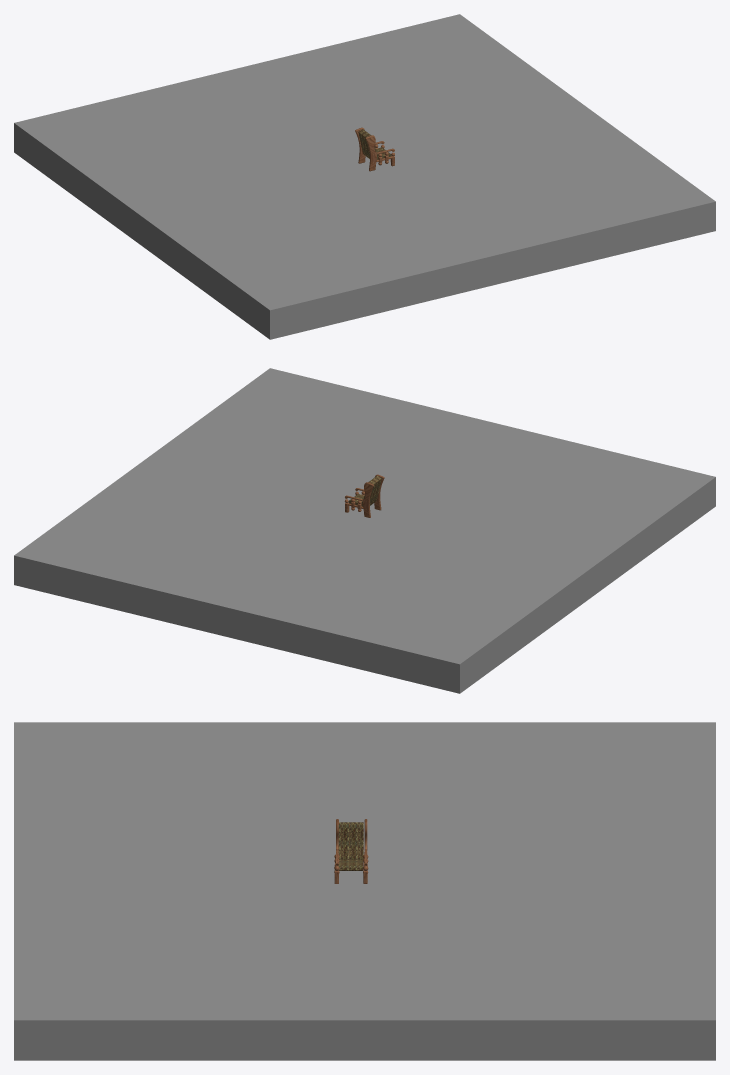
Rendered from Stokvel_Wooden_Armchair.FBX.
The picture shows the model from 3 angles, top to bottom: view 1: azimuth 30°, elevation 25°; view 2: azimuth 150°, elevation 25°; view 3: azimuth 270°, elevation 25°; orthographic projection. The views are drawn at different scales.
Visible parts, largest first — view 1: Box001; view 2: Box001; view 3: Box001, Shape007.
Boxes of the visible parts, <box> form: Box001: <box>14,14,715,339</box>; Box001: <box>14,368,715,693</box>; Box001: <box>14,722,715,1060</box>; Shape007: <box>338,822,363,859</box>.
Bounding box in the file's own units: 51.89 × 7.15 × 51.61.
Materials: 3 (2 with a texture image).
